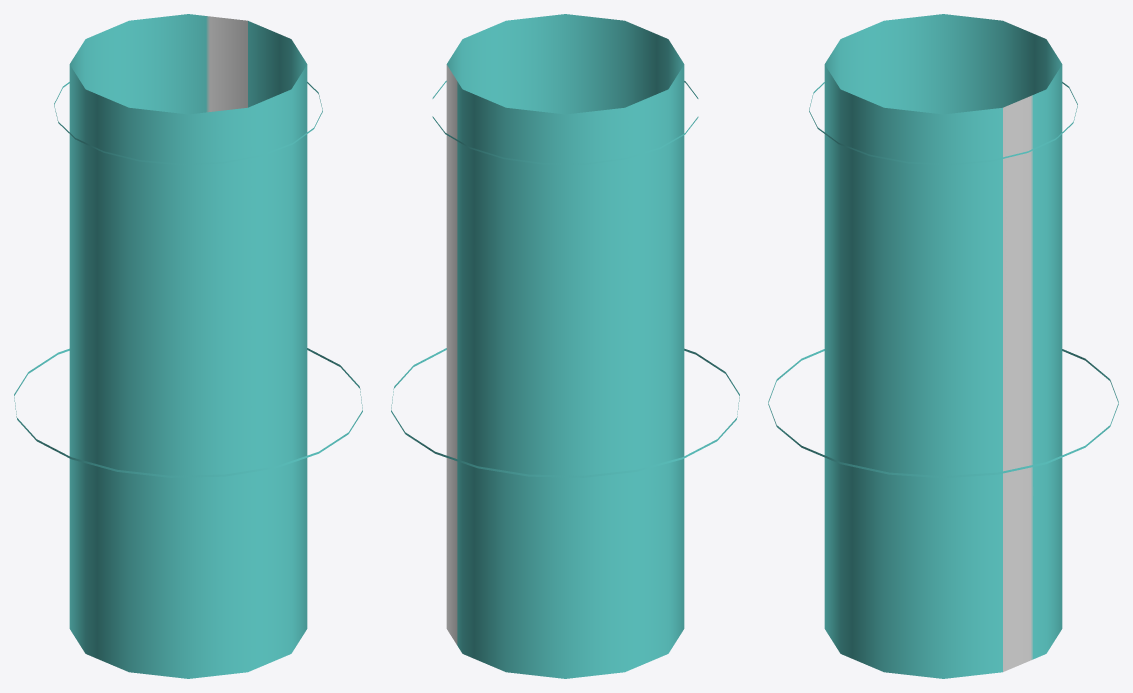
Rendered from 科幻数字线条.gltf.
3 views of the same model, side by side, from view 1: azimuth 30°, elevation 25°; view 2: azimuth 150°, elevation 25°; view 3: azimuth 270°, elevation 25° (orthographic).
Visible parts, largest first — view 1: polySurface12; view 2: polySurface12; view 3: polySurface12.
Boxes of the visible parts, x1,y1,x2,y2 form: polySurface12: (14,14,362,678); polySurface12: (391,14,739,678); polySurface12: (768,14,1118,678).
Bounding box in the file's own units: 158 × 281 × 158.
Materials: 1 (1 with a texture image).
